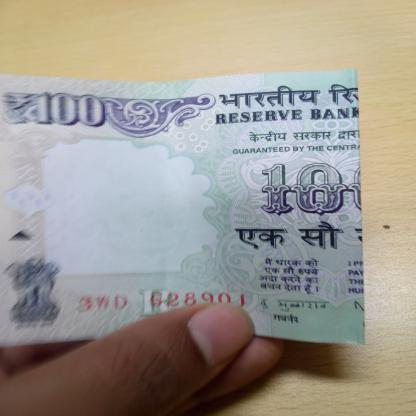Old100Front: (0, 66, 366, 347)
